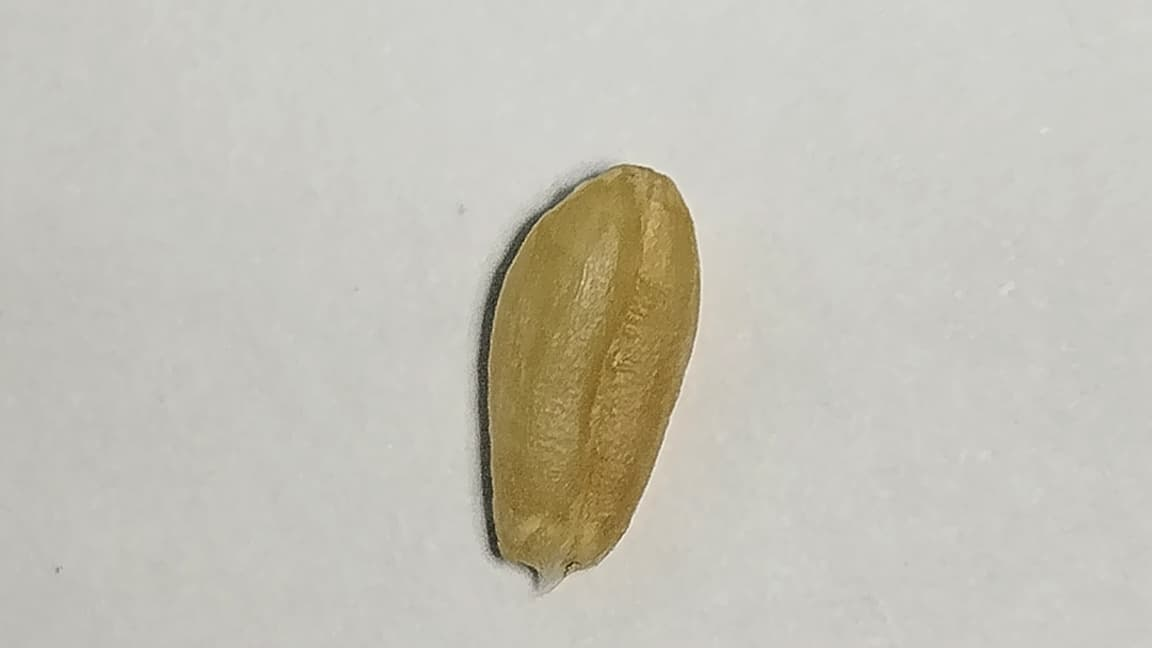healthy: (478, 162, 700, 590)
